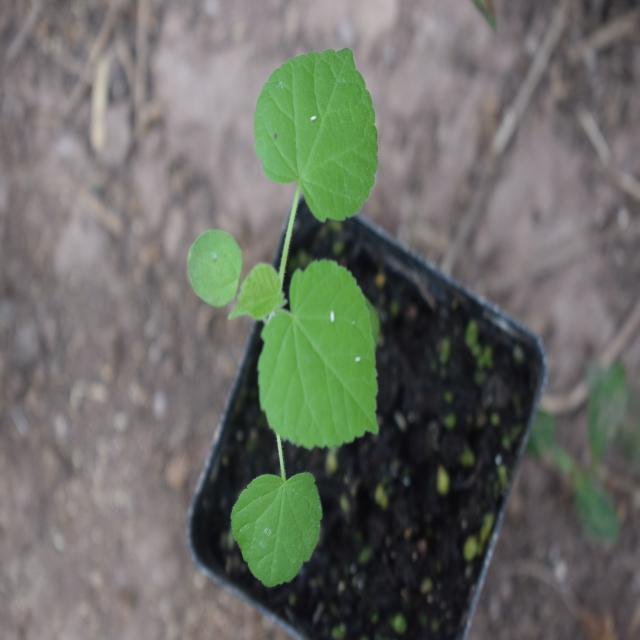abutilon theophrasti: (190, 19, 393, 581)
